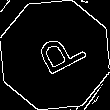P_SW: (24, 27, 86, 83)
